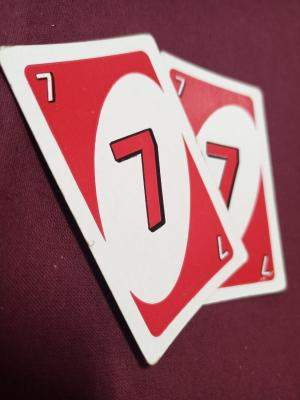num_7: (198, 133, 244, 217), (167, 65, 194, 106), (210, 230, 237, 269), (256, 251, 277, 283)
